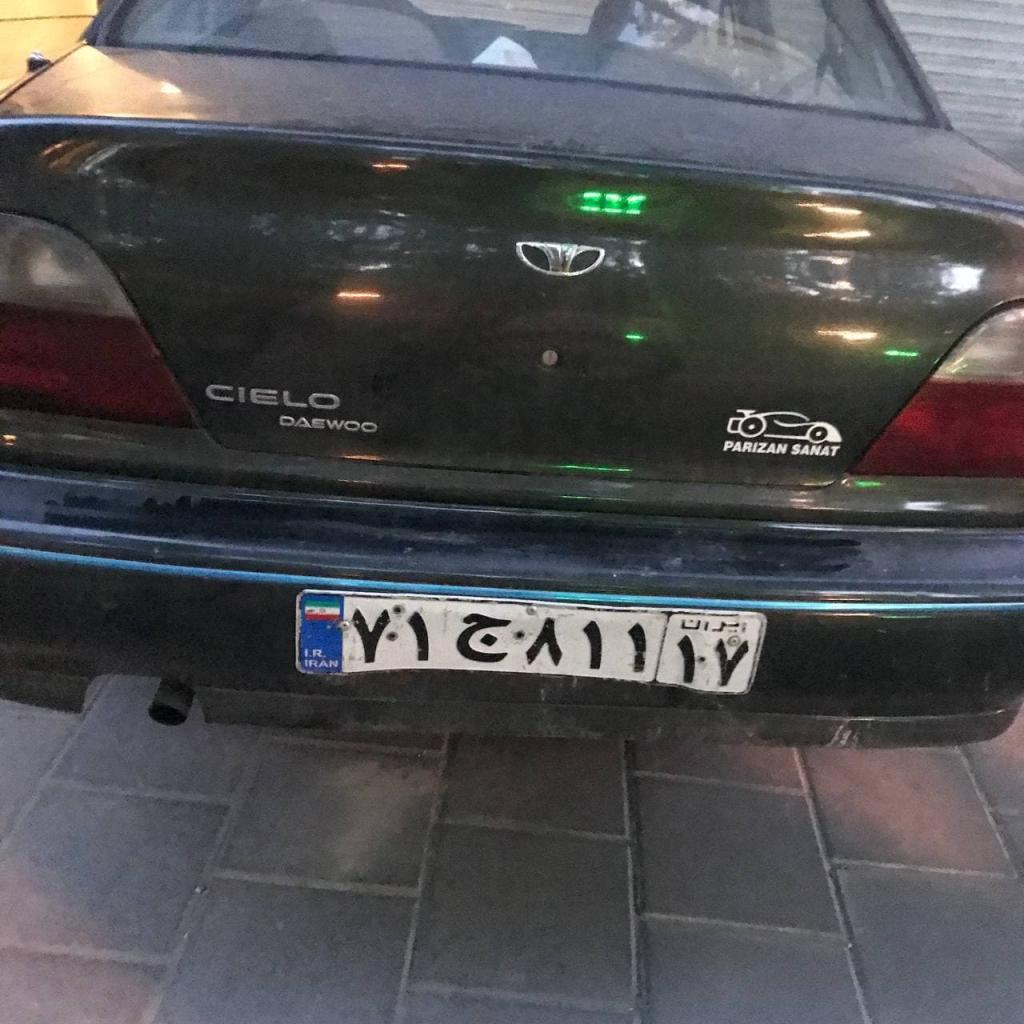Plates: (297, 587, 766, 697)
